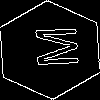M: (25, 25, 79, 69)
